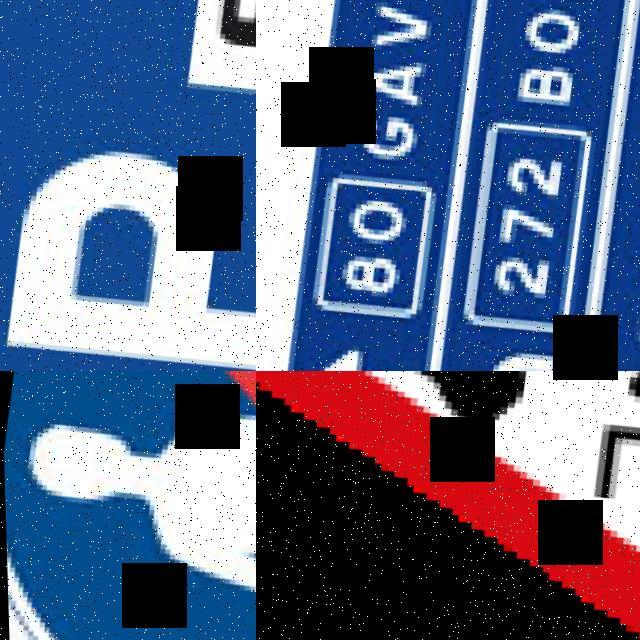112: (0, 371, 256, 640)
60: (0, 0, 256, 371)
Advance direction sign exit ahead from other road than motorway or expressway: (256, 0, 640, 371)
Unguarded level crossing ahead: (256, 371, 640, 640)
